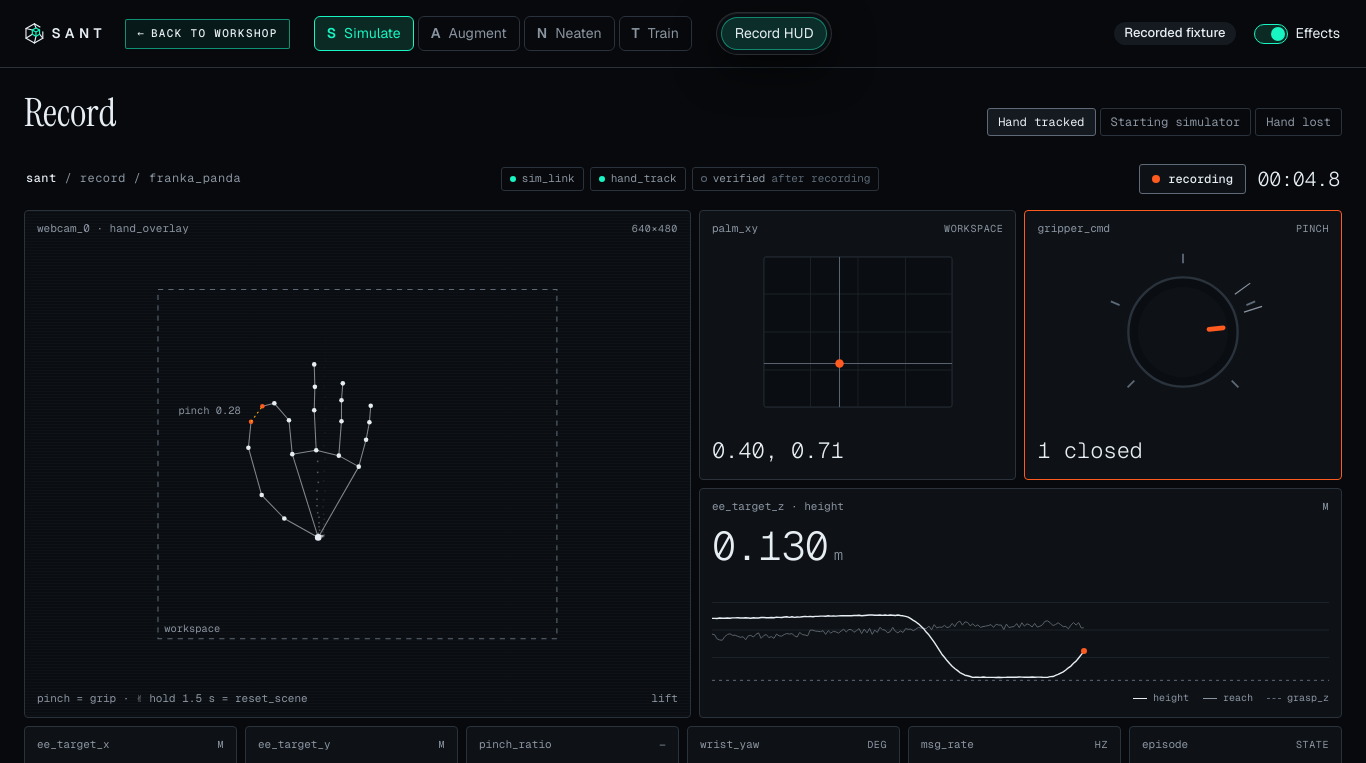
RecordHudPreview › holds mid-lift with reduced motion and switches between preview states
Check: the text "lift" is shown, box [652,691,678,707]
Check: the text "1 closed" is shown, box [1037,436,1143,464]
Click the button "Starting simulator" at (1175,122), box [1100,108,1251,136]
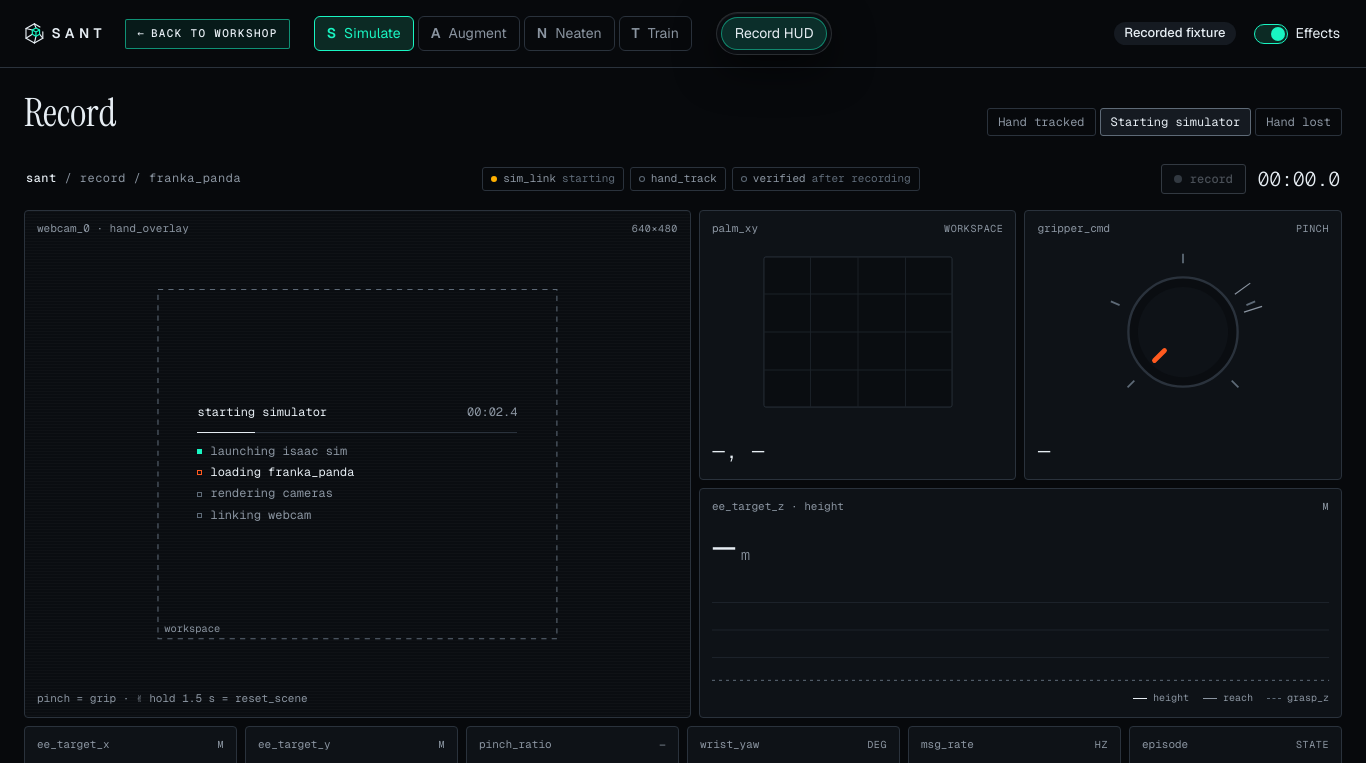
Check: the message "starting simulator" is shown, box [197,404,517,524]
Check: the button "record" is disabled, box [1161,164,1246,194]
Click the button "Hand lost" at (1299,122), box [1255,108,1342,136]
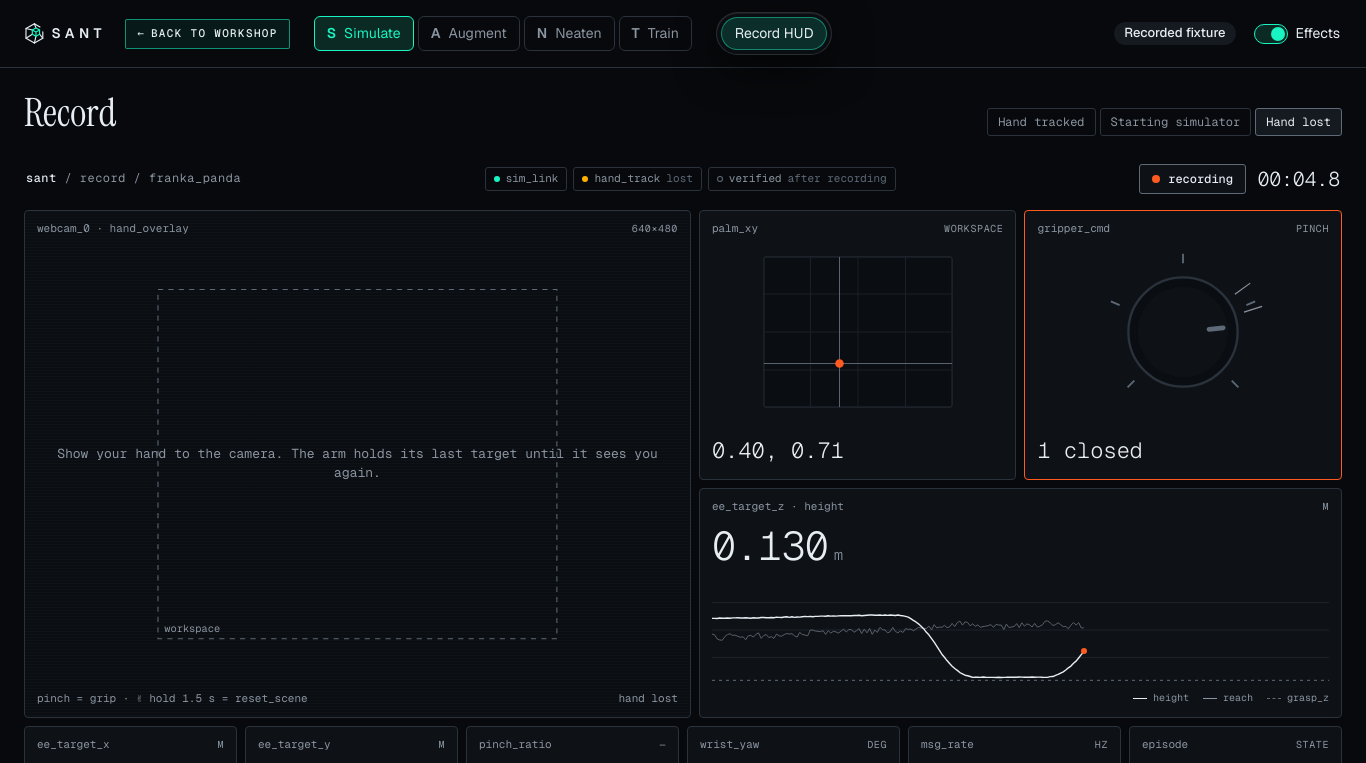
Check: the text "Show your hand to the camera" is shown, box [57,445,658,481]
Check: the text "hand lost" is shown, box [618,691,678,707]
Check: the text "1 closed" is shown, box [1037,436,1143,464]
